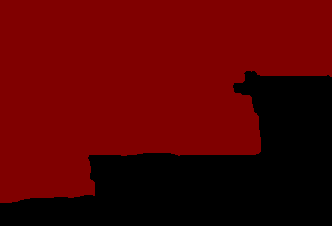Sky: (1, 1, 331, 202)
